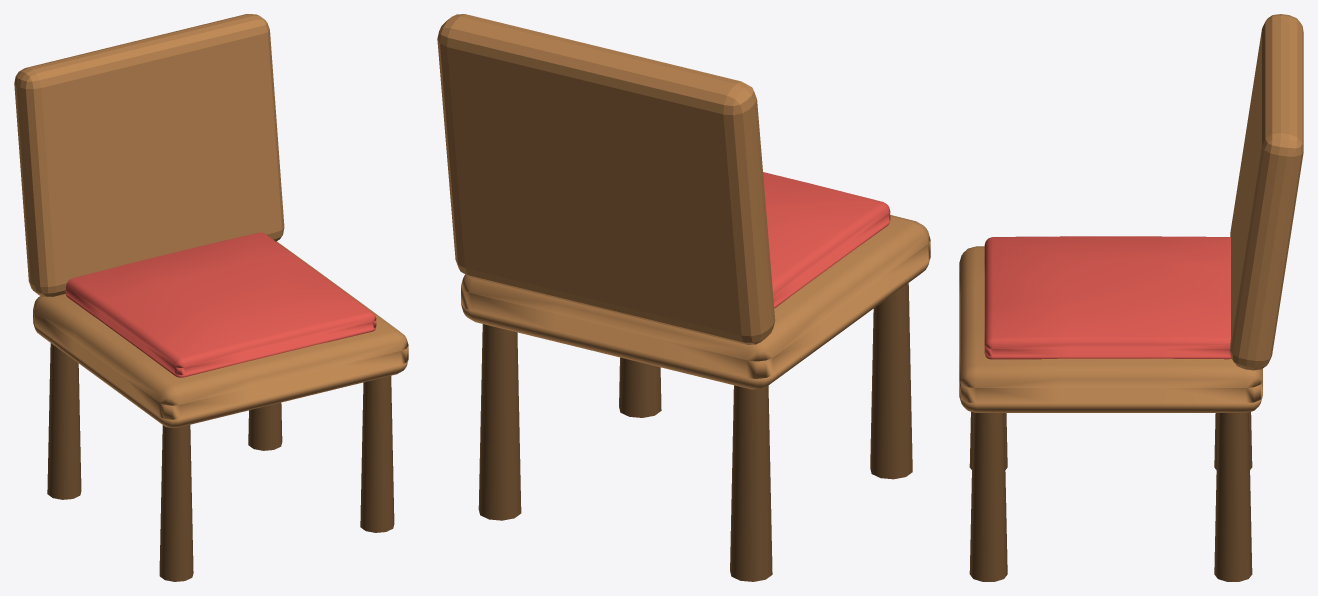
The model's file is cadeira.glb.
3 views of the same model, side by side, from view 1: azimuth 30°, elevation 25°; view 2: azimuth 150°, elevation 25°; view 3: azimuth 270°, elevation 25° (orthographic). The views are drawn at different scales.
Parts seen in each view (by area): view 1: cadeira; view 2: cadeira; view 3: cadeira.
Part boxes in pixels (box(x1,y1,x2,y2)): cadeira: box(14, 14, 408, 581); cadeira: box(437, 14, 930, 581); cadeira: box(959, 14, 1303, 581).
Bounding box in the file's own units: 0.74 × 1.17 × 0.8171.
